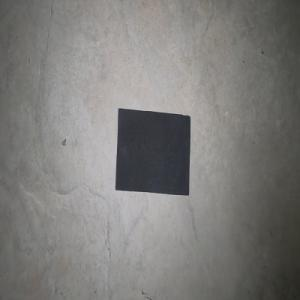PaintChip: (115, 108, 190, 195)
